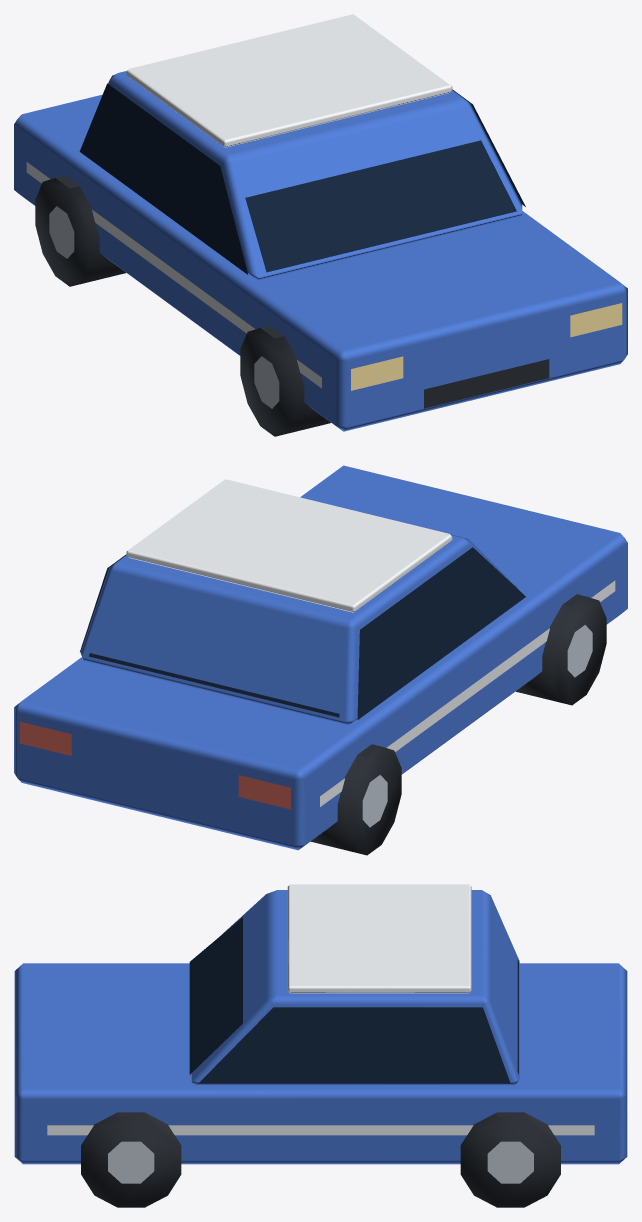
File: CM_Prop_ParkedCar_Blue.fbx
3 views of the same model, one above another, from view 1: azimuth 30°, elevation 25°; view 2: azimuth 150°, elevation 25°; view 3: azimuth 270°, elevation 25° (orthographic). The views are drawn at different scales.
Visible parts, largest first — view 1: Body; view 2: Body; view 3: Body.
Boxes of the visible parts, x1,y1,x2,y2 form: Body: [14, 14, 627, 436]; Body: [14, 465, 627, 855]; Body: [14, 884, 627, 1207].
Size of the model in its own units: 6 by 11 by 4.
Materials: 1 (1 with a texture image).
